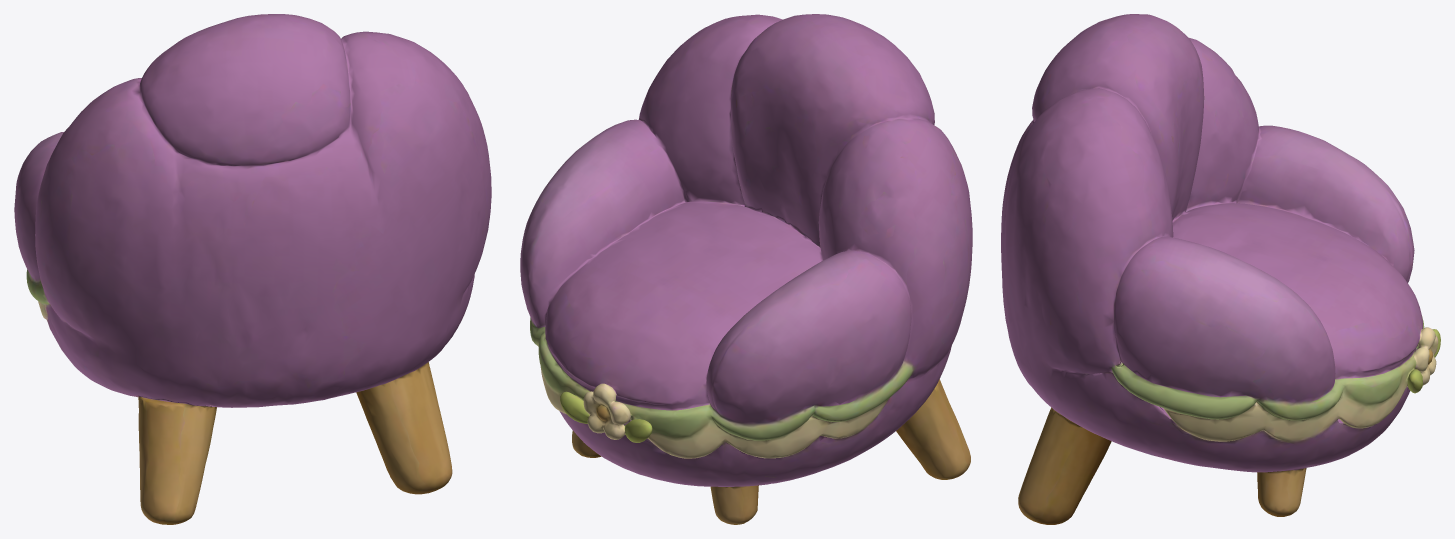
The model's file is item_armchair.glb.
The picture shows the model from 3 angles, left to right: view 1: azimuth 30°, elevation 25°; view 2: azimuth 150°, elevation 25°; view 3: azimuth 270°, elevation 25°; orthographic projection. The views are drawn at different scales.
Visible parts, largest first — view 1: geometry_0; view 2: geometry_0; view 3: geometry_0.
Boxes of the visible parts, x1,y1,x2,y2 form: geometry_0: [14, 14, 491, 524]; geometry_0: [520, 14, 972, 524]; geometry_0: [1001, 14, 1440, 524].
Bounding box in the file's own units: 0.8853 × 0.9386 × 0.8525.
1 material, 1 textured.
